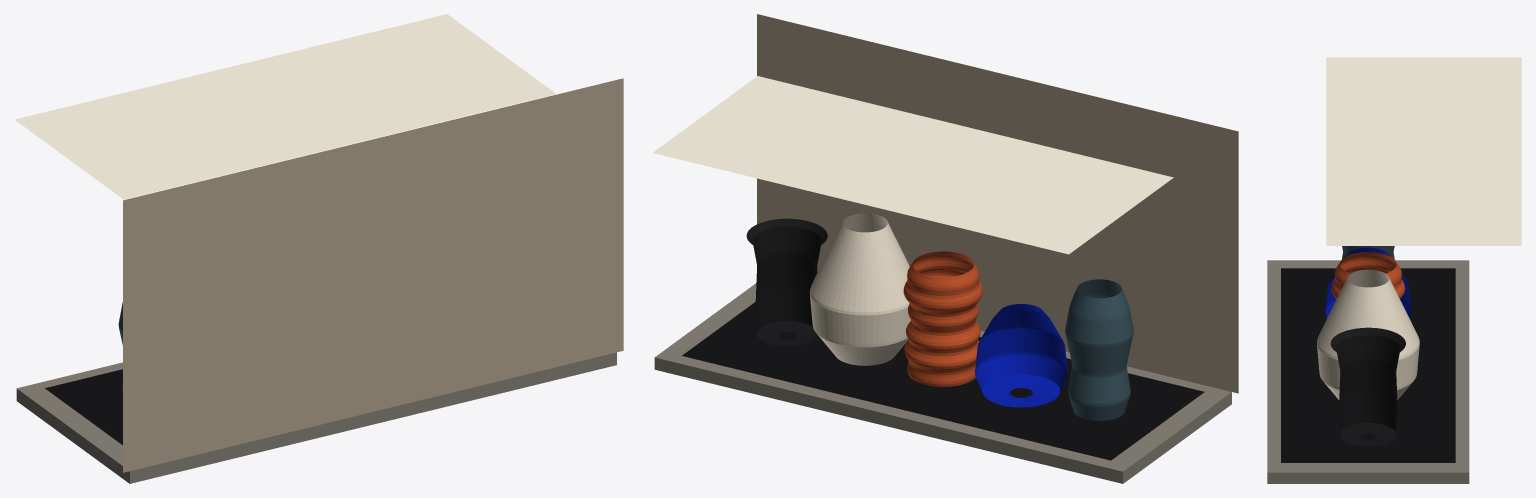
3 renders of one model, left to right at view 1: azimuth 30°, elevation 25°; view 2: azimuth 150°, elevation 25°; view 3: azimuth 270°, elevation 25°, orthographic. The views are drawn at different scales.
Visible parts, largest first — view 1: group_2_mat_warm_cyclorama, group_4_mat_softbox, group_1_mat_stone_pedestal, group_3_mat_shadow; view 2: group_2_mat_warm_cyclorama, group_4_mat_softbox, group_3_mat_shadow, group_1_mat_stone_pedestal, group_10_mat_white_porcelain, group_9_mat_terracotta_ribbed, group_7_mat_smoky_glass, group_11_mat_dark_brushed_metal, group_8_mat_cobalt_ceramic; view 3: group_4_mat_softbox, group_3_mat_shadow, group_1_mat_stone_pedestal, group_11_mat_dark_brushed_metal, group_10_mat_white_porcelain, group_9_mat_terracotta_ribbed, group_8_mat_cobalt_ceramic.
Boxes of the visible parts, box(x1,y1,x2,y2) form: group_2_mat_warm_cyclorama: box(123, 78, 623, 472); group_4_mat_softbox: box(15, 14, 555, 199); group_1_mat_stone_pedestal: box(16, 352, 616, 483); group_3_mat_shadow: box(45, 369, 122, 445); group_2_mat_warm_cyclorama: box(757, 14, 1238, 393); group_4_mat_softbox: box(653, 76, 1173, 254); group_3_mat_shadow: box(682, 302, 1204, 460); group_1_mat_stone_pedestal: box(654, 283, 1231, 483); group_10_mat_white_porcelain: box(809, 213, 910, 365); group_9_mat_terracotta_ribbed: box(903, 251, 982, 386); group_7_mat_smoky_glass: box(1065, 279, 1133, 420); group_11_mat_dark_brushed_metal: box(746, 218, 827, 346); group_8_mat_cobalt_ceramic: box(975, 304, 1067, 407); group_4_mat_softbox: box(1326, 57, 1521, 245); group_3_mat_shadow: box(1281, 268, 1455, 462); group_1_mat_stone_pedestal: box(1267, 260, 1469, 483); group_11_mat_dark_brushed_metal: box(1330, 327, 1405, 446); group_10_mat_white_porcelain: box(1317, 269, 1419, 399); group_9_mat_terracotta_ribbed: box(1331, 252, 1405, 298); group_8_mat_cobalt_ceramic: box(1325, 247, 1411, 317).
Size of what is drawn, in the model's own units: 7.4 by 4.03 by 3.65.
